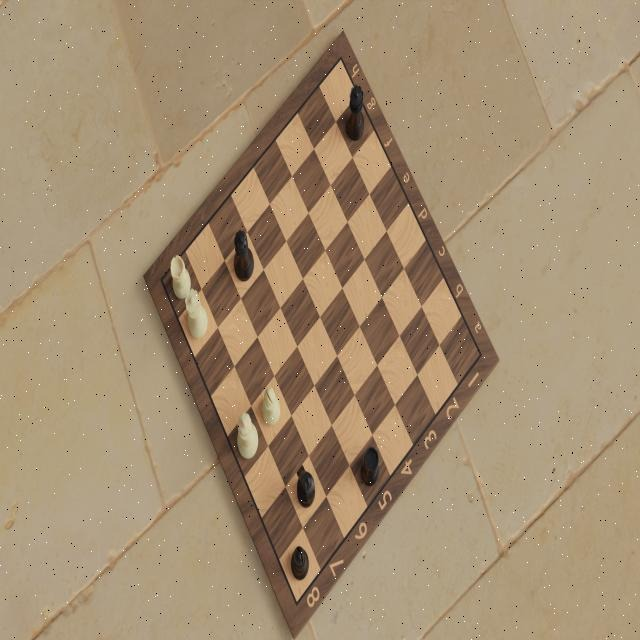black-bishop: (289, 540, 310, 583)
black-king: (232, 226, 256, 285)
black-knight: (295, 464, 319, 511)
black-queen: (343, 84, 367, 148)
black-rook: (358, 444, 383, 492)
white-bishop: (261, 384, 283, 428)
white-king: (235, 411, 260, 463)
white-queen: (183, 286, 211, 346)
white-rook: (168, 252, 194, 304)
